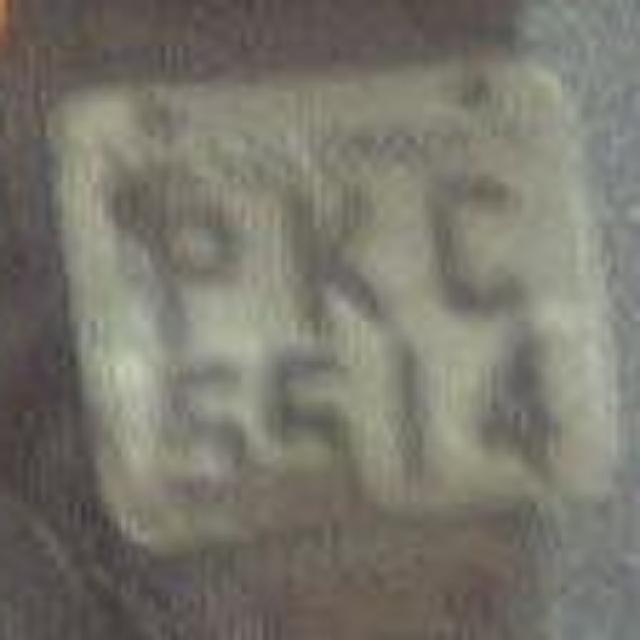4: (448, 305, 572, 500)
5: (132, 351, 260, 504), (244, 348, 368, 504)
C: (408, 160, 544, 328)
K: (276, 168, 396, 352)
P: (120, 168, 245, 360)
